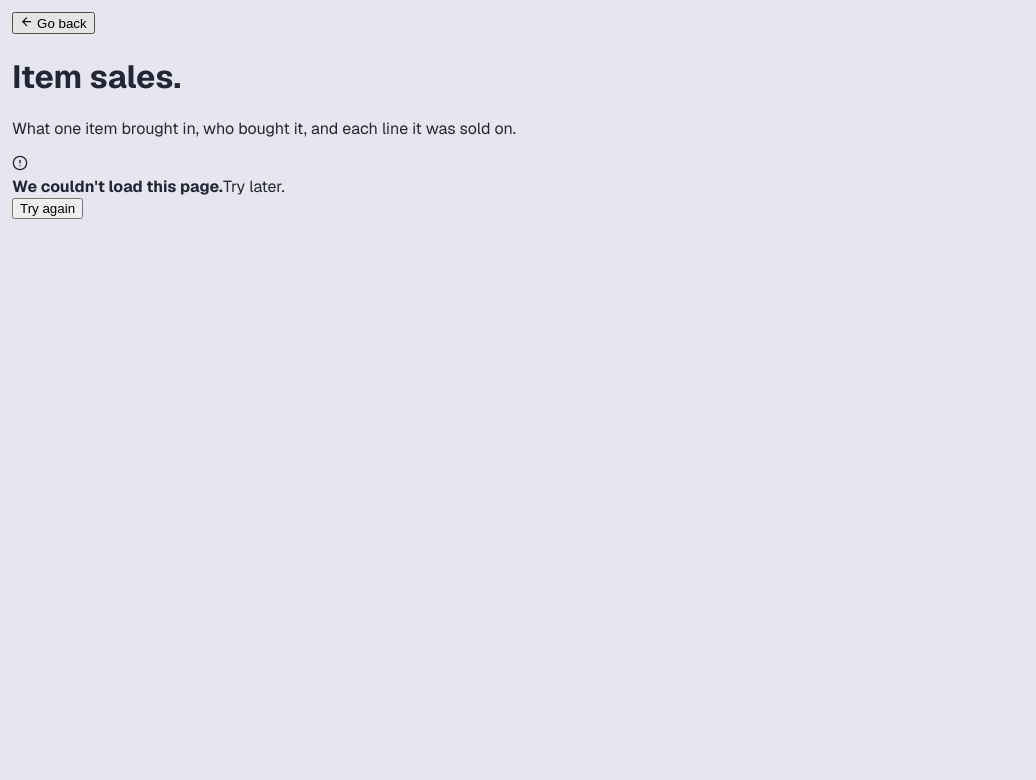
Scenario: item load error with retry
Expected: the message "We couldn't load this page.Try later. Try again" is shown, 12,155 -> 285,219
Click the button "Try again" at (48, 209), box 12,198 -> 83,219
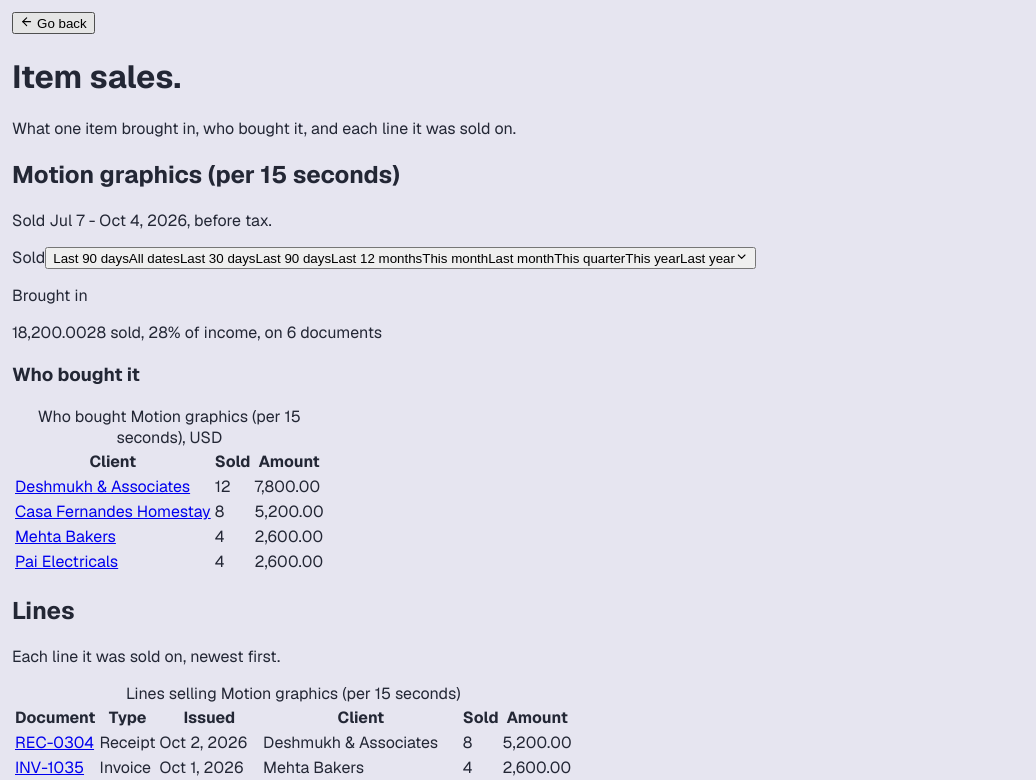
Expected: the table that starts with "Deshmukh & Associates" is shown, 14,475 -> 325,573
